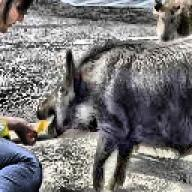boar: (34, 28, 192, 192)
